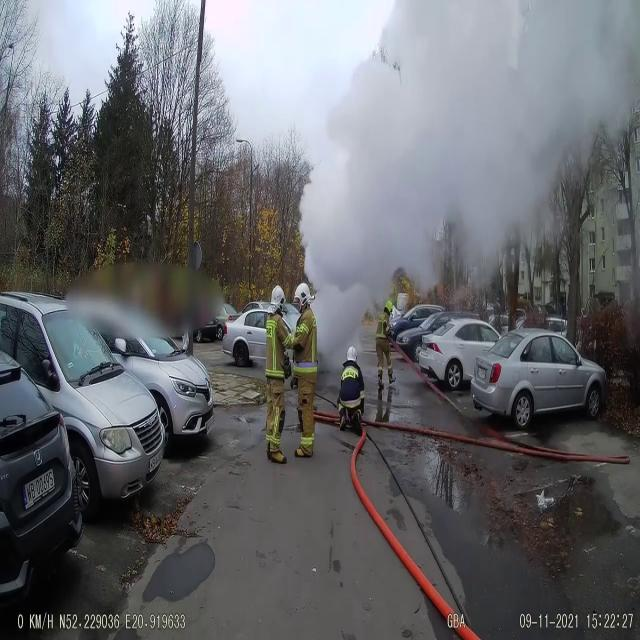Smoke: (296, 0, 572, 291)
